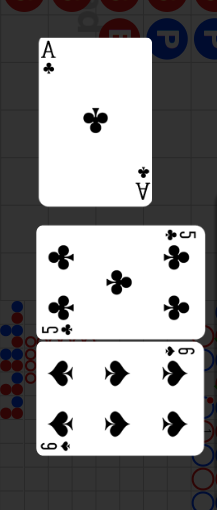5C: (163, 228, 197, 243)
6S: (40, 439, 73, 452)
AC: (41, 40, 59, 78)
